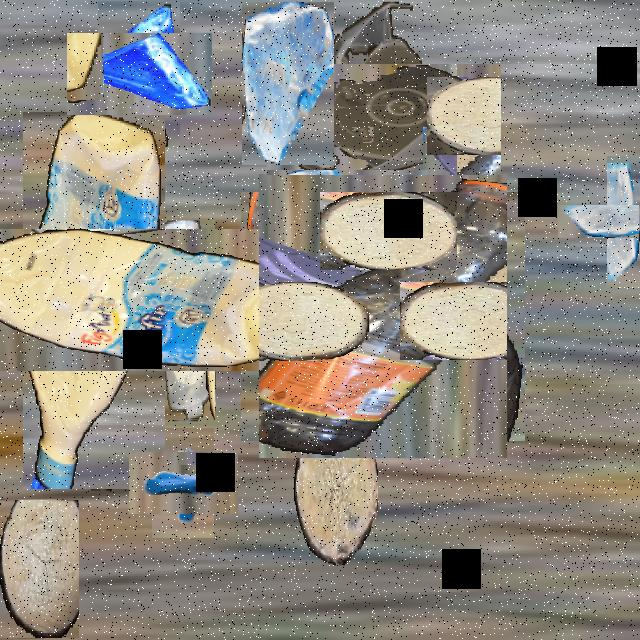glass: (242, 2, 334, 165), (276, 175, 394, 291), (82, 18, 196, 132), (582, 180, 640, 263)
metal: (140, 441, 226, 526)
plastic: (250, 183, 516, 450), (0, 170, 223, 430), (298, 32, 470, 206), (120, 255, 250, 385)
wood: (294, 412, 378, 566), (334, 177, 442, 285), (0, 500, 79, 638)
